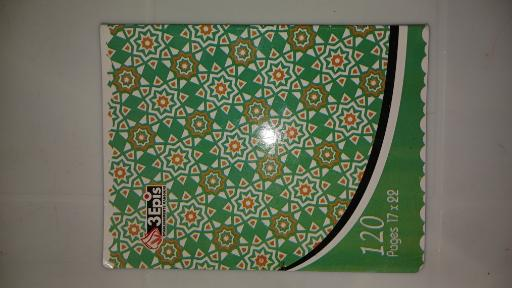notebook: (102, 24, 427, 272)
